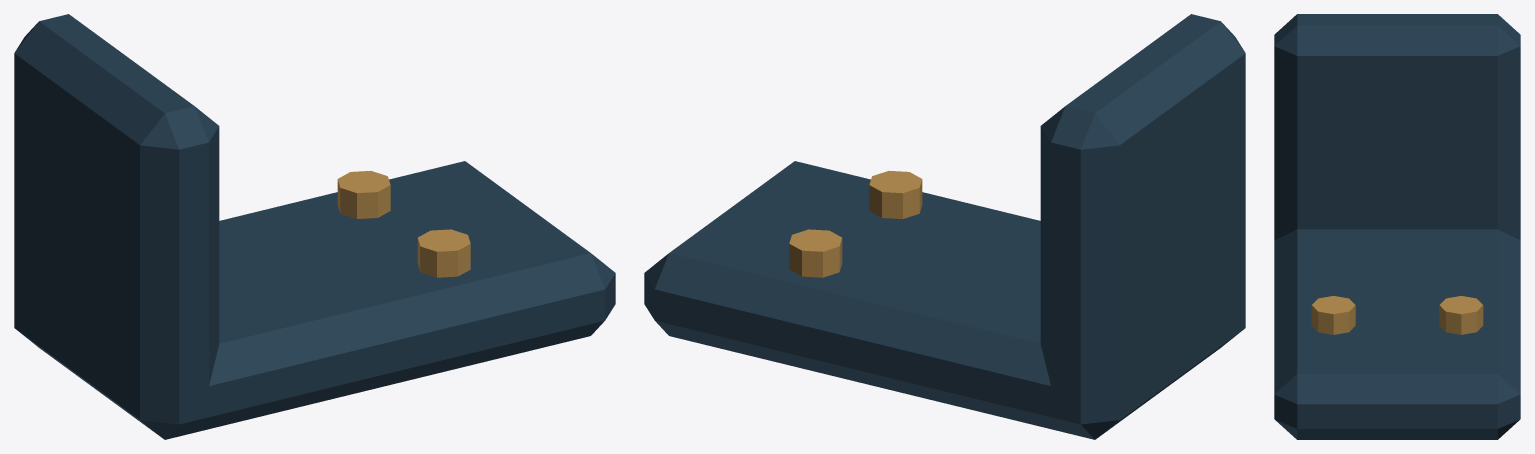
The model's file is metal_brace.glb.
The picture shows the model from 3 angles, left to right: view 1: azimuth 30°, elevation 25°; view 2: azimuth 150°, elevation 25°; view 3: azimuth 270°, elevation 25°; orthographic projection. The views are drawn at different scales.
Parts seen in each view (by area): view 1: bracket; view 2: bracket; view 3: bracket.
Boxes of the visible parts, x1,y1,x2,y2 form: bracket: [14, 14, 615, 439]; bracket: [644, 14, 1245, 439]; bracket: [1274, 14, 1520, 439].
Size of the model in its own units: 0.48 by 0.315 by 0.27.
